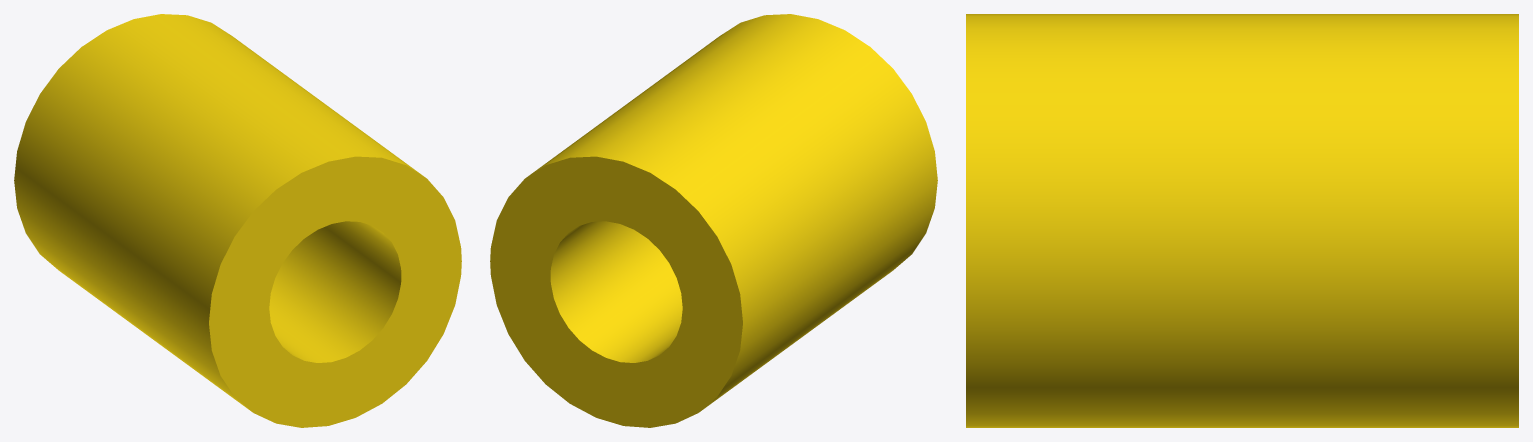
Rendered from Electrical_Box_Spacer.gltf.
The picture shows the model from 3 angles, left to right: view 1: azimuth 30°, elevation 25°; view 2: azimuth 150°, elevation 25°; view 3: azimuth 270°, elevation 25°; orthographic projection. The views are drawn at different scales.
Parts seen in each view (by area): view 1: mesh52056, mesh52055, mesh52054; view 2: mesh52056, mesh52057, mesh52054; view 3: mesh52056.
Part boxes in pixels (<box>): mesh52056: <box>14,14,425,411</box>; mesh52055: <box>209,156,461,427</box>; mesh52054: <box>269,221,401,362</box>; mesh52056: <box>526,14,937,411</box>; mesh52057: <box>490,156,742,427</box>; mesh52054: <box>550,221,682,362</box>; mesh52056: <box>966,14,1518,427</box>.
Size of the model in its own units: 0.00953 by 0.00951 by 0.0127.
